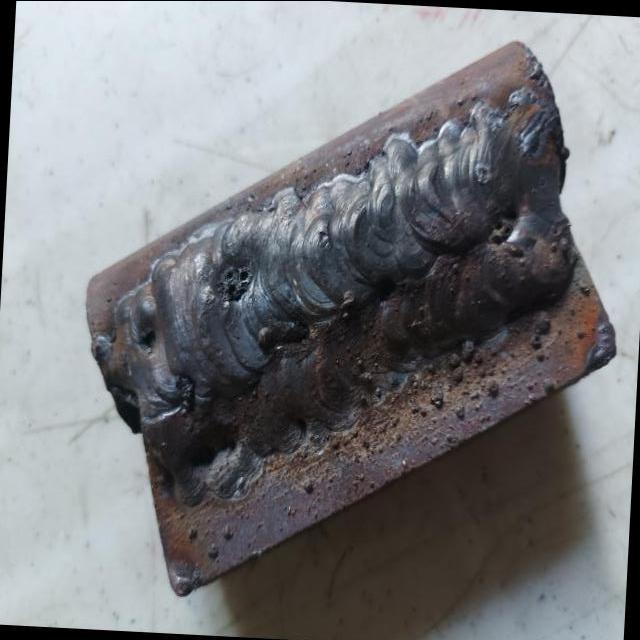defect: (483, 199, 521, 254), (216, 254, 254, 305), (171, 370, 196, 423), (137, 324, 159, 359), (375, 272, 398, 302), (473, 159, 490, 183)
